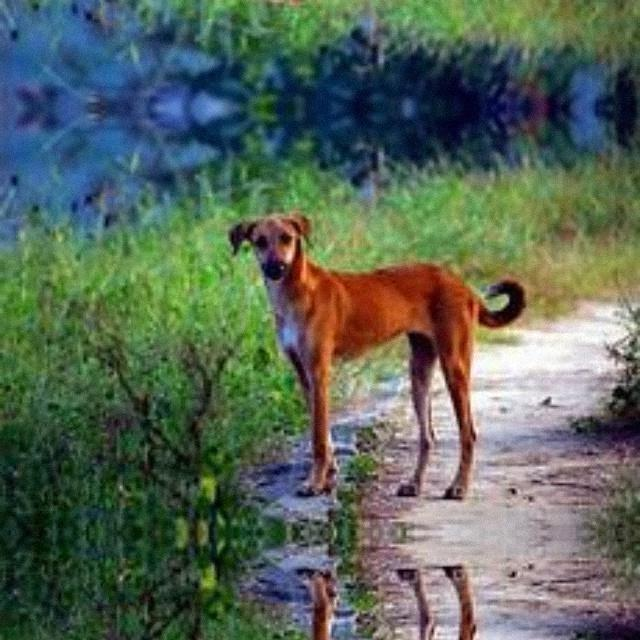dog: (211, 194, 544, 510), (211, 555, 544, 640), (211, 0, 544, 20)
